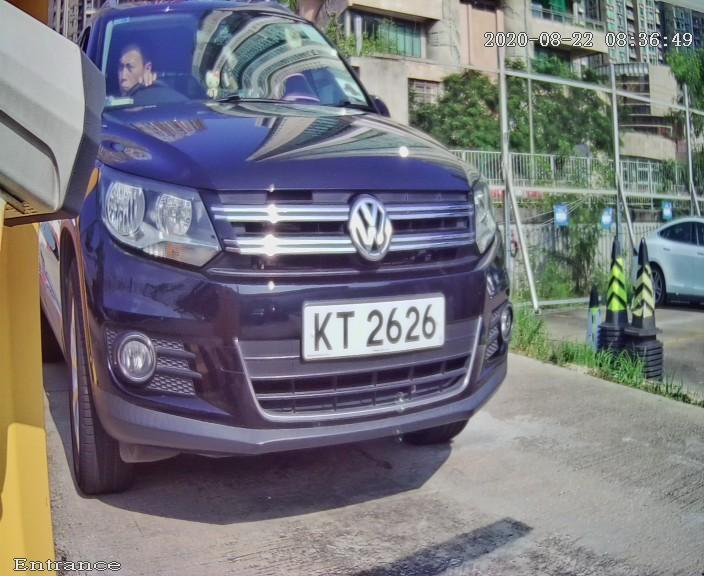Car: (21, 1, 549, 522)
License Plate: (276, 273, 468, 372)
